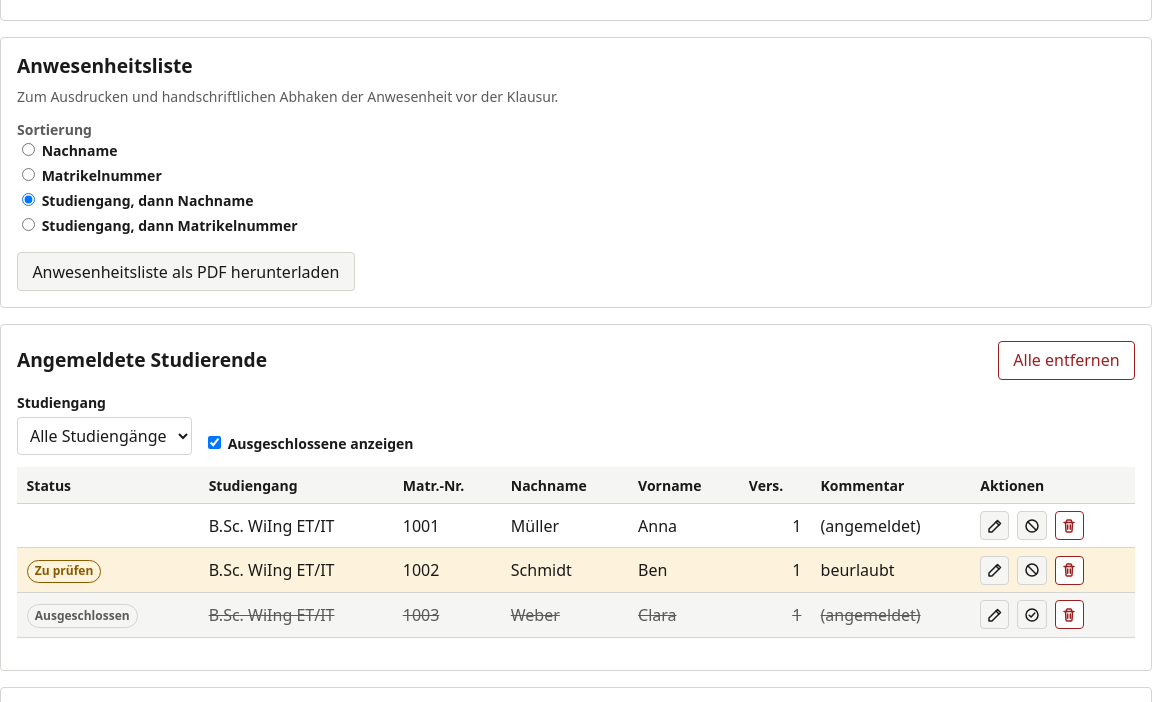
RegistrationsPage — remove all (§5.3) › deletes every registration and refreshes the list on confirm
(page scrolled)
Expected: the row with test id "registration-row-1" is shown, x1=17 y1=503 x2=1135 y2=548
Click the button "Alle entfernen".
click(1066, 360)  # box x1=998 y1=341 x2=1135 y2=380
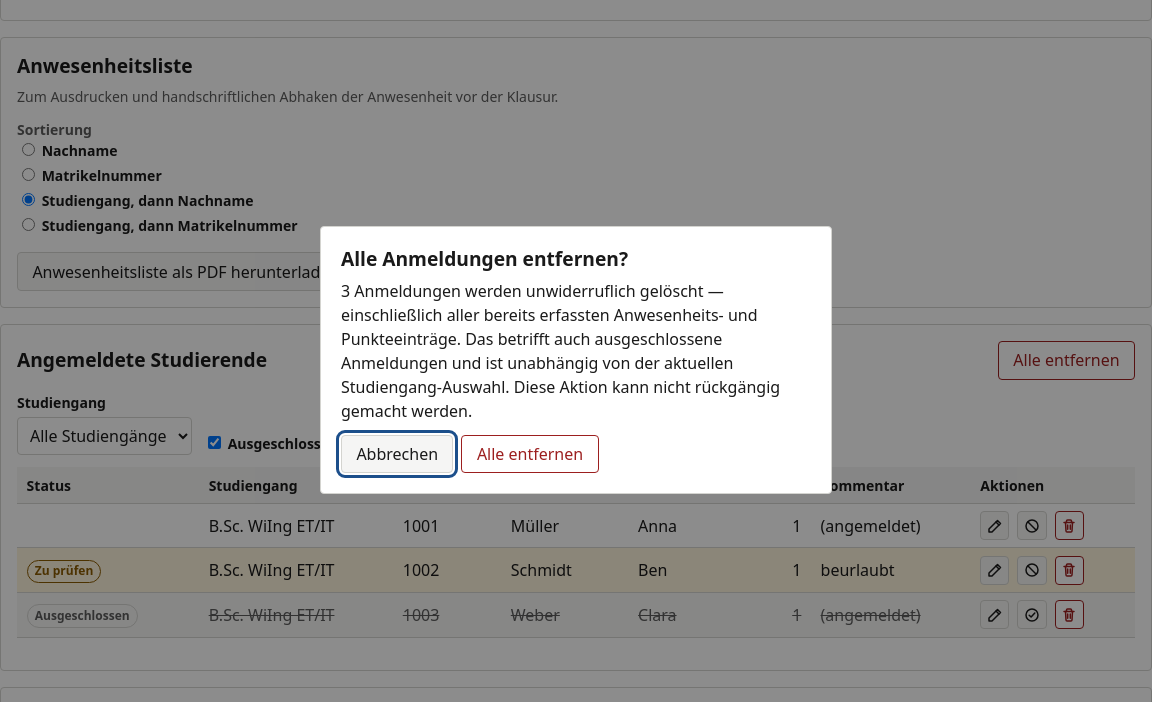
Click the button "Alle entfernen".
click(530, 454)  # box x1=462 y1=435 x2=599 y2=473
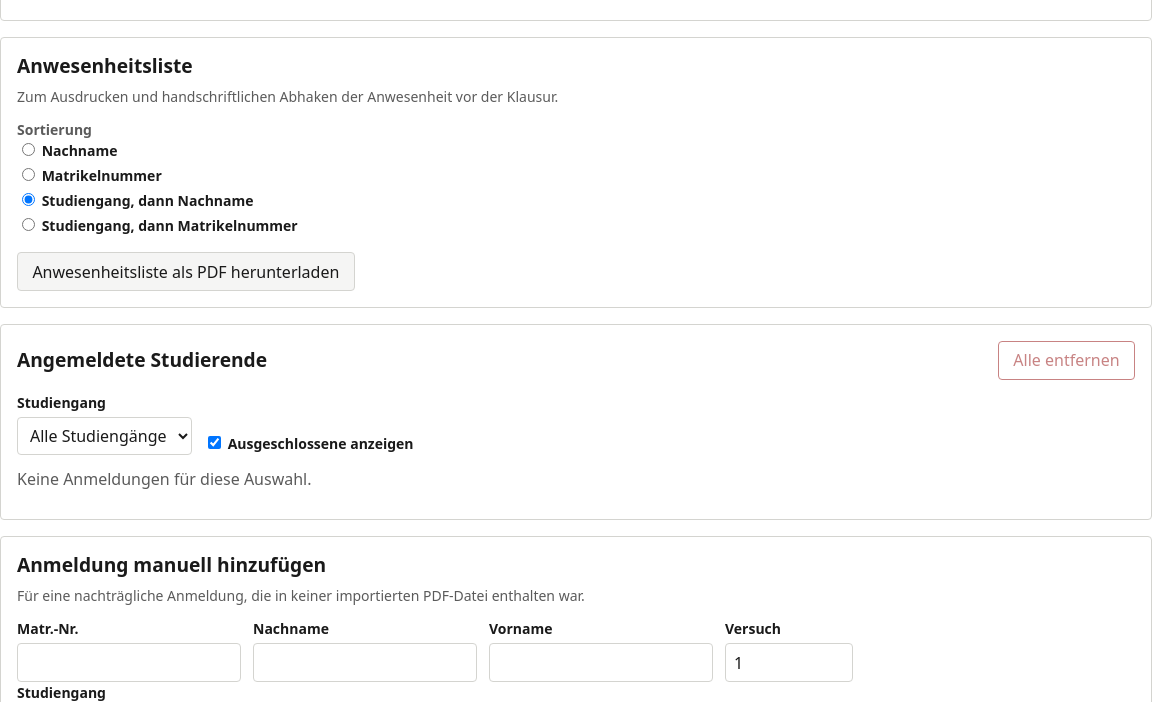
Expected: the text "Keine Anmeldungen für diese Auswahl." is shown, x1=17 y1=468 x2=312 y2=490
